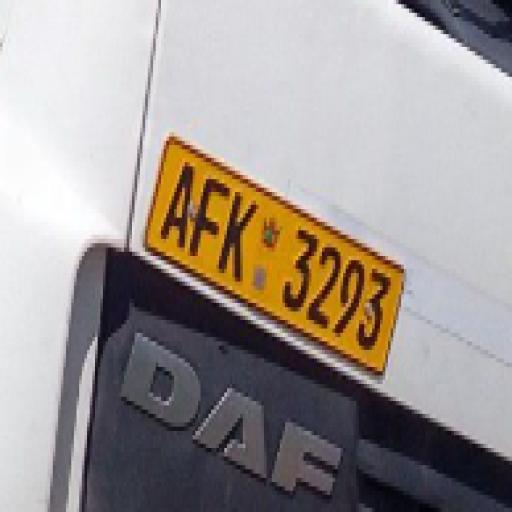number-plates: (159, 118, 399, 358)
